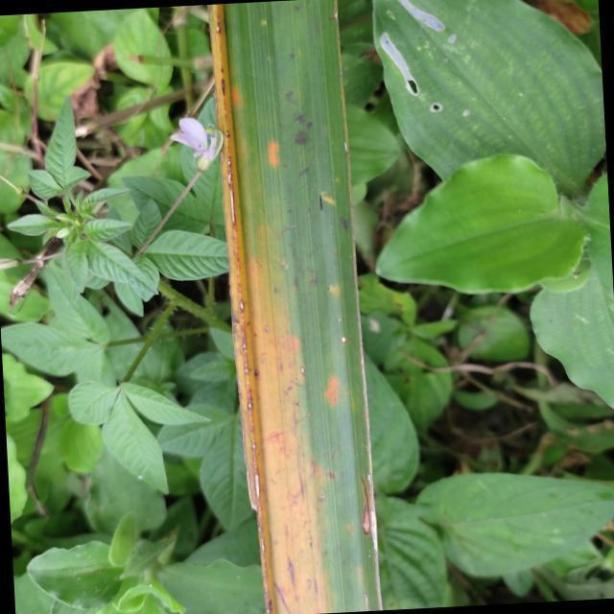Megnesium: (208, 0, 385, 614)
